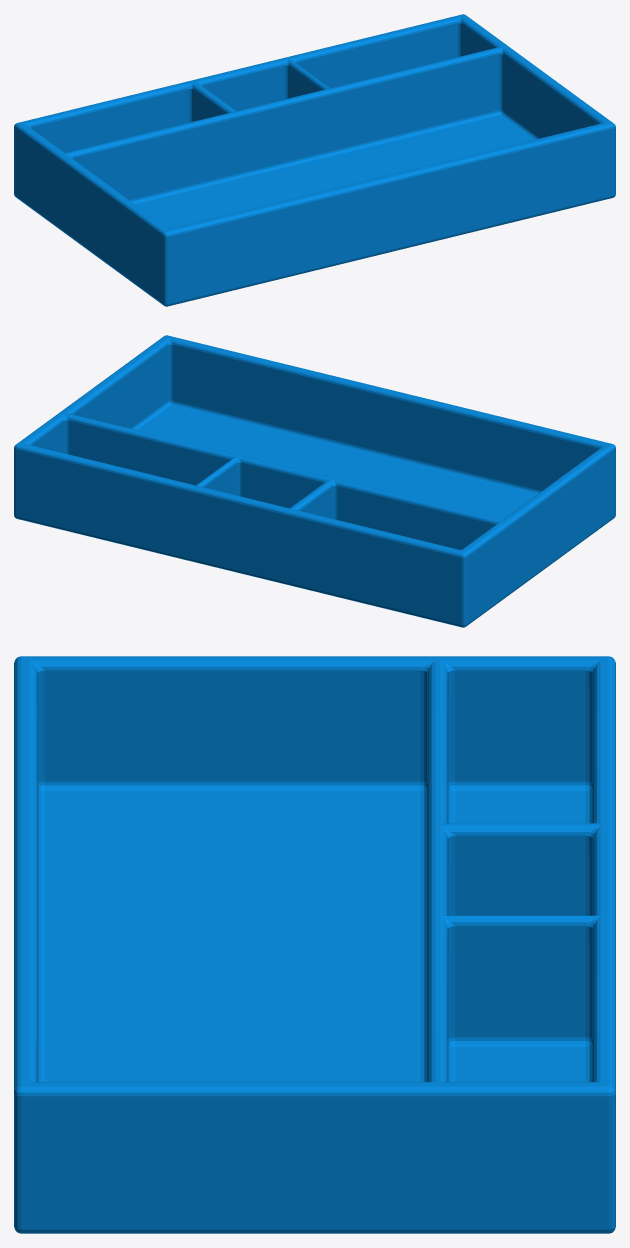
File: Plateau-Projet-Doceo.fbx
The picture shows the model from 3 angles, top to bottom: view 1: azimuth 30°, elevation 25°; view 2: azimuth 150°, elevation 25°; view 3: azimuth 270°, elevation 25°; orthographic projection. The views are drawn at different scales.
Parts seen in each view (by area): view 1: Petit-Plateau; view 2: Petit-Plateau; view 3: Petit-Plateau.
Part boxes in pixels (box(x1,y1,x2,y2)): Petit-Plateau: box(14, 14, 615, 306); Petit-Plateau: box(14, 335, 615, 627); Petit-Plateau: box(14, 656, 615, 1233).
Size of the model in its own units: 20.51 by 3.22 by 11.97.
